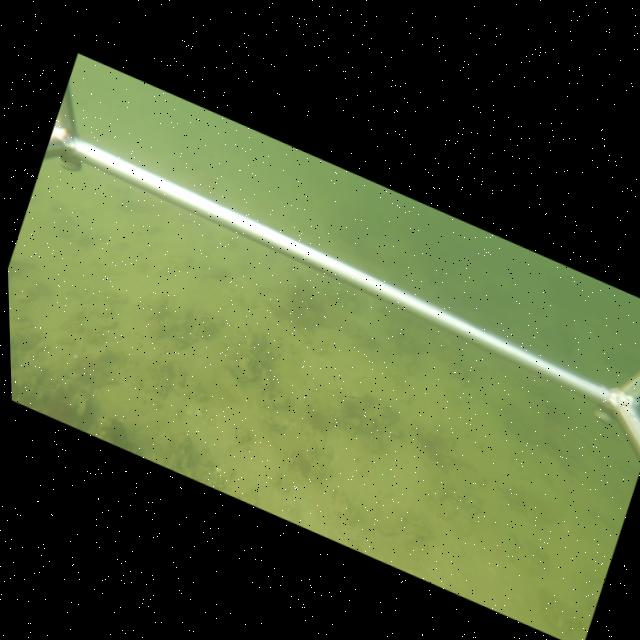Oyster-Indeterminate: (270, 413, 291, 427)
